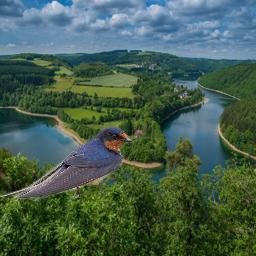Swallow: (0, 125, 134, 201)
